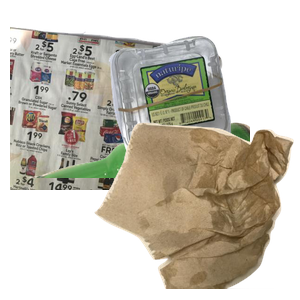glass: (23, 120, 263, 300)
paper: (10, 22, 225, 202)
plastic: (106, 34, 300, 183)
trash: (92, 120, 300, 300)
